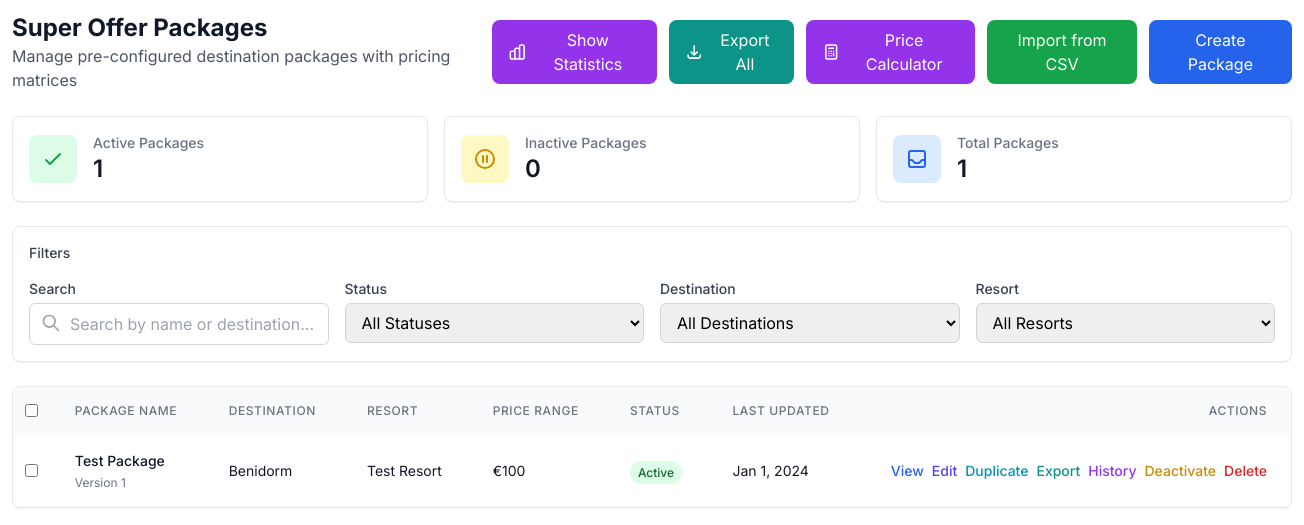
Test case: SuperPackageManager - Duplicate Feature › should disable duplicate button while action is loading
The image size is (1304, 525).
Check: the text "Test Package" is shown, box [75,451,181,471]
Click the button "Duplicate": (997, 471) [965,461,1028,481]
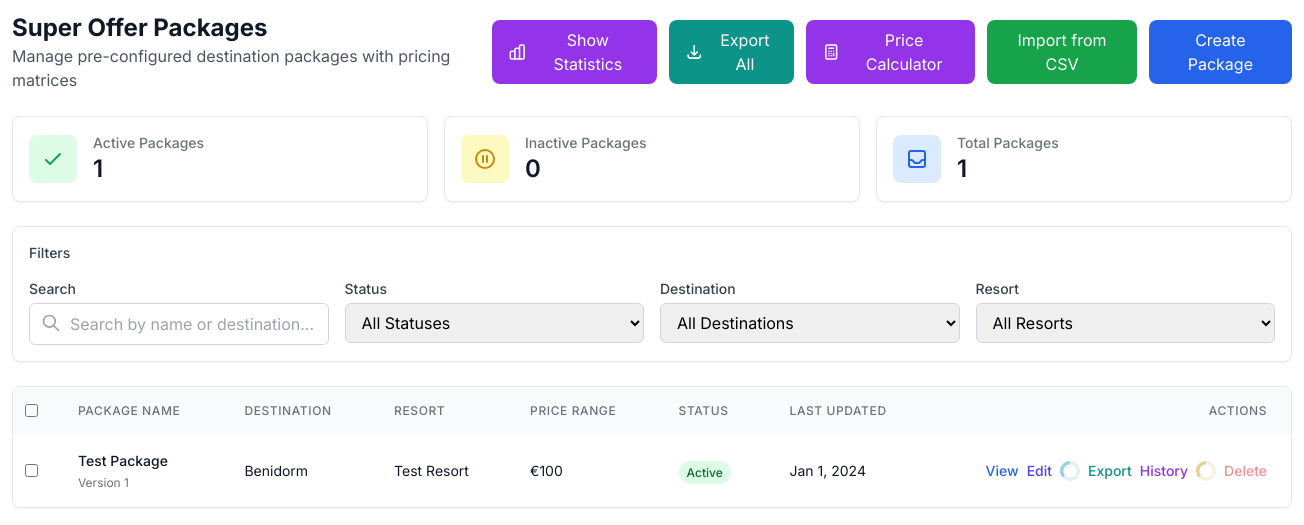
Check: the button "Duplicate" is disabled, box [1060,461,1080,481]
